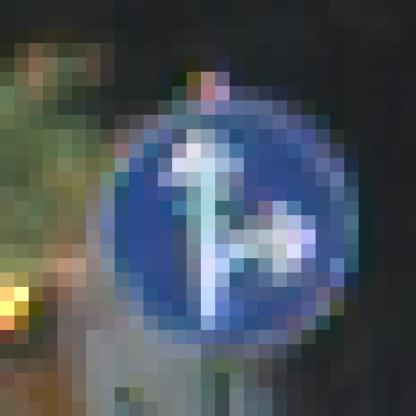Straight or Right: (73, 73, 345, 345)
